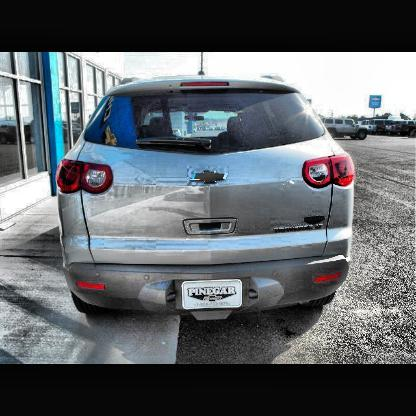Chevrolet Traverse SUV 2012: (53, 54, 357, 333)
